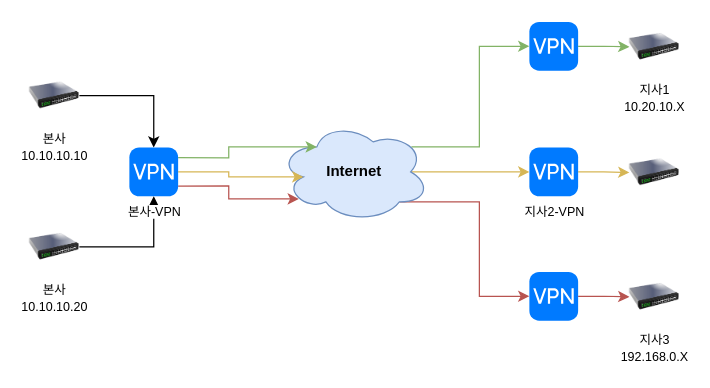
Image size: 710x388. Some labels were removed from this diagram. The box of each missing label's shape, as (x1, y1, x2, y2) in pixels:
지사1-VPN: (529, 21, 578, 70)
지사2 172.16.0.X: (629, 147, 679, 197)
지사3-VPN: (529, 271, 578, 320)
